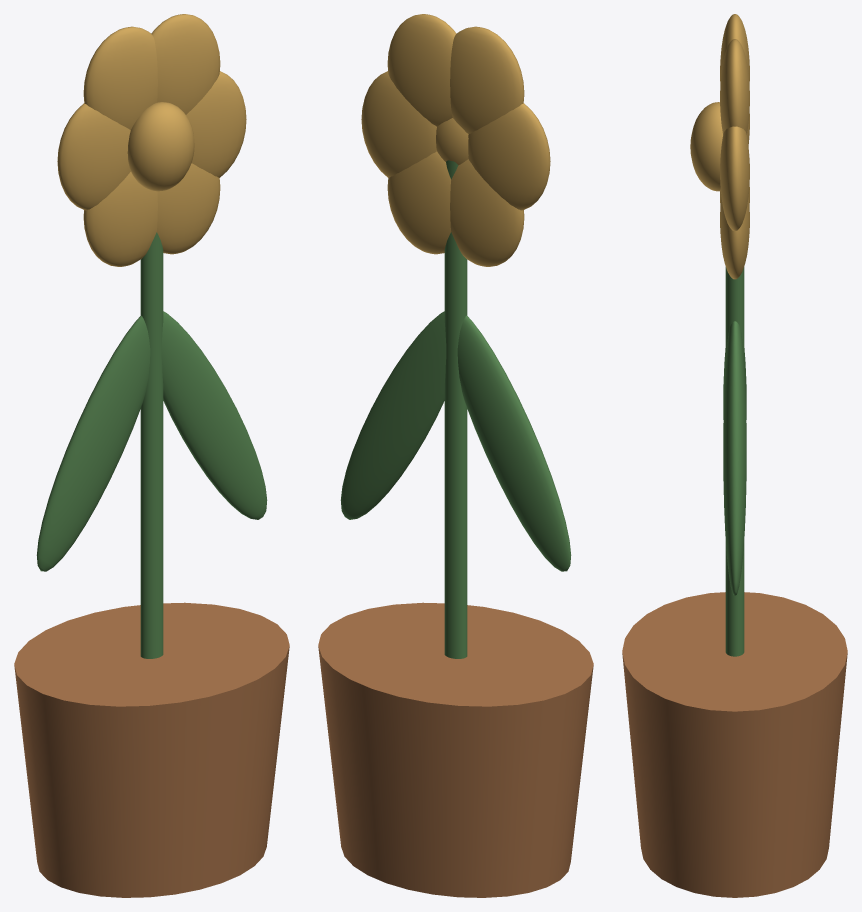
File: wp-tournesol.glb
3 renders of one model, left to right at view 1: azimuth 30°, elevation 25°; view 2: azimuth 150°, elevation 25°; view 3: azimuth 270°, elevation 25°, orthographic.
Parts seen in each view (by area): view 1: wp-tournesol; view 2: wp-tournesol; view 3: wp-tournesol.
Boxes of the visible parts, x1,y1,x2,y2 form: wp-tournesol: (14,14,289,897); wp-tournesol: (318,14,593,897); wp-tournesol: (622,14,847,897).
Bounding box in the file's own units: 0.3777 × 1.2 × 0.3.
